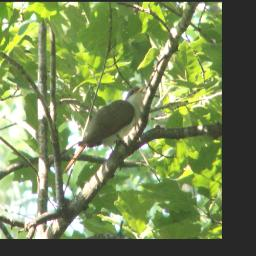Cuckoo: (61, 83, 149, 175)
